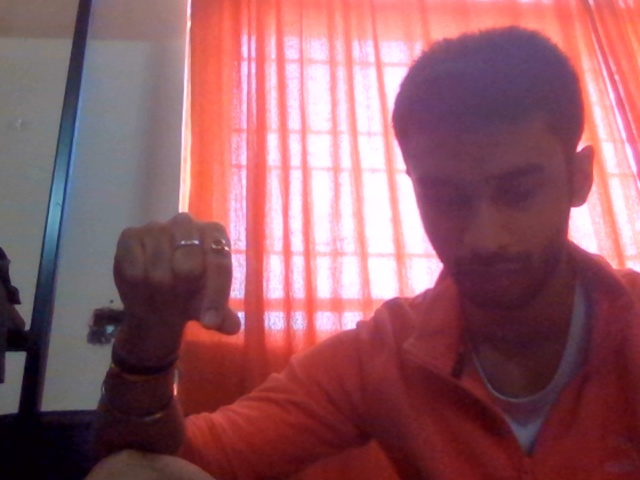Q: (93, 205, 284, 367)
